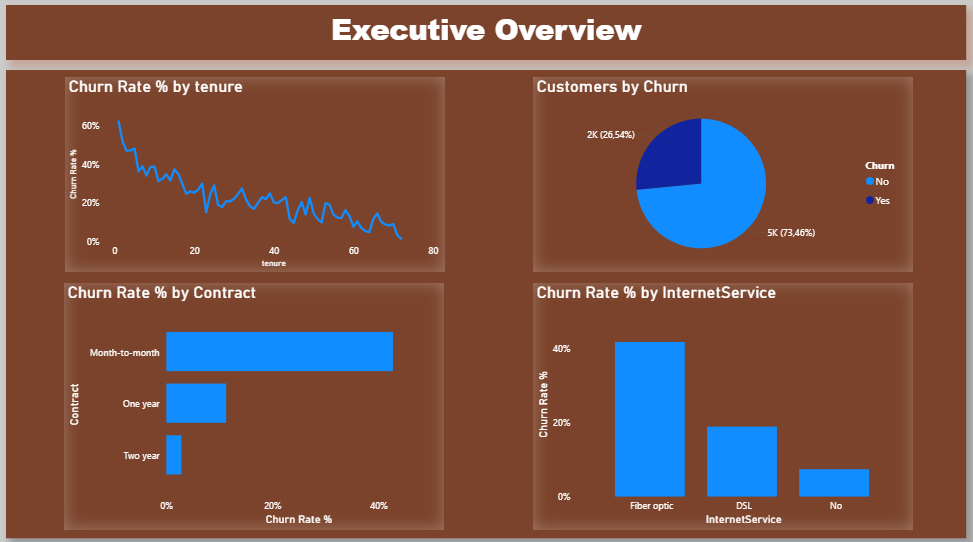

This screenshot's page, from the dashboard's own definition file:
{"tool":"powerbi","page":{"name":"Executive Overview","canvas":[1280,720],"ordinal":0},"visuals":[{"type":"shape","box":[10.1,95,1257.1,613.4],"z":0},{"type":"barChart","fields":{"Y":["WA_Fn-UseC_-Telco-Customer-Churn.Churn Rate %"],"Category":["WA_Fn-UseC_-Telco-Customer-Churn.Contract"]},"box":[86.4,374.4,498.2,322.6],"z":1000},{"type":"clusteredColumnChart","fields":{"Y":["WA_Fn-UseC_-Telco-Customer-Churn.Churn Rate %"],"Category":["WA_Fn-UseC_-Telco-Customer-Churn.InternetService"]},"box":[699.8,374.4,498.2,322.6],"z":2000},{"type":"lineChart","fields":{"Category":["WA_Fn-UseC_-Telco-Customer-Churn.tenure"],"Y":["WA_Fn-UseC_-Telco-Customer-Churn.Churn Rate %"]},"box":[87.8,105.1,496.8,254.9],"z":3000},{"type":"pieChart","title":"Customers by Churn","fields":{"Category":["WA_Fn-UseC_-Telco-Customer-Churn.Churn"],"Y":["WA_Fn-UseC_-Telco-Customer-Churn.Total Customers"]},"box":[699.8,105.1,498.2,254.9],"z":4000},{"type":"textbox","box":[10.1,10.1,1257.1,72],"z":5000}]}

Visuals, with their boxes in screenshot pixels (x1, y1, x2, y2), scaled from the page's 1280x720 canvas onto the 973x542 screenshot:
shape: select_region(8, 72, 963, 533)
barChart - WA_Fn-UseC_-Telco-Customer-Churn.Churn Rate % x WA_Fn-UseC_-Telco-Customer-Churn.Contract: select_region(66, 282, 444, 525)
clusteredColumnChart - WA_Fn-UseC_-Telco-Customer-Churn.Churn Rate % x WA_Fn-UseC_-Telco-Customer-Churn.InternetService: select_region(532, 282, 911, 525)
lineChart - WA_Fn-UseC_-Telco-Customer-Churn.tenure x WA_Fn-UseC_-Telco-Customer-Churn.Churn Rate %: select_region(67, 79, 444, 271)
"Customers by Churn" pieChart: select_region(532, 79, 911, 271)
textbox: select_region(8, 8, 963, 62)
